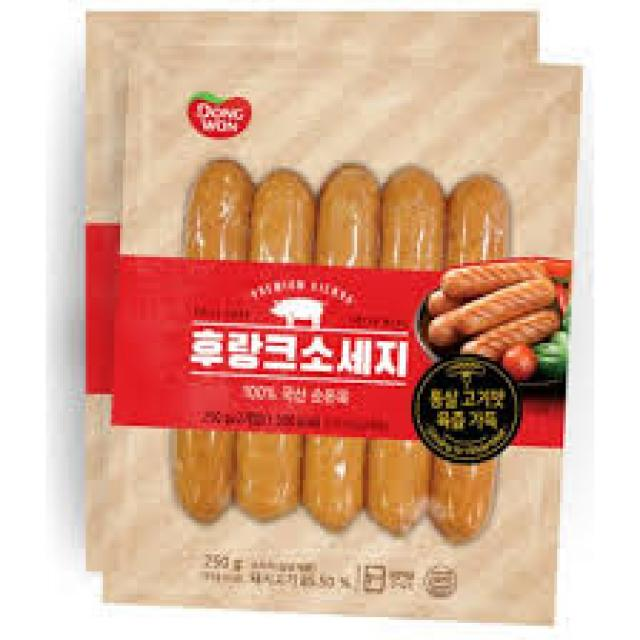sausage: (169, 150, 514, 555)
